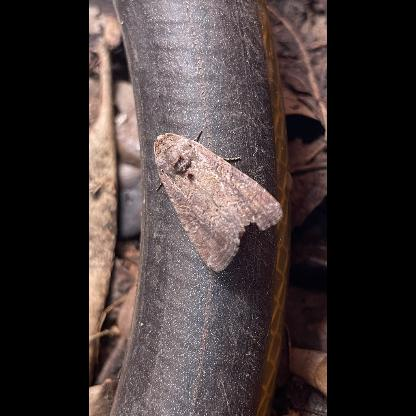Fall Armyworm Moth: (152, 127, 286, 274)
